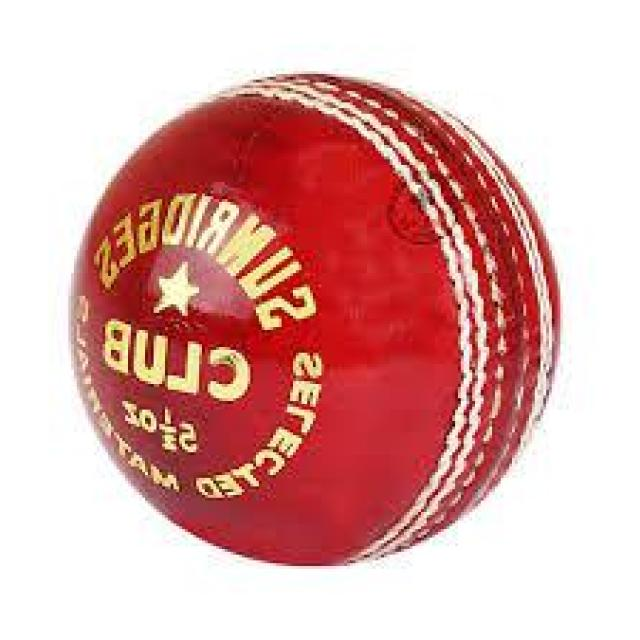ball: (68, 74, 563, 566)
